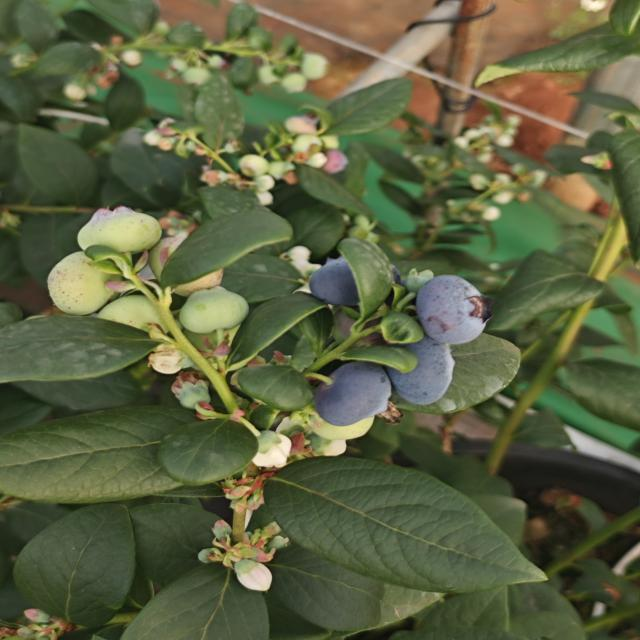ripe: (382, 332, 473, 408), (413, 262, 492, 346), (310, 358, 399, 432), (305, 252, 404, 308)
